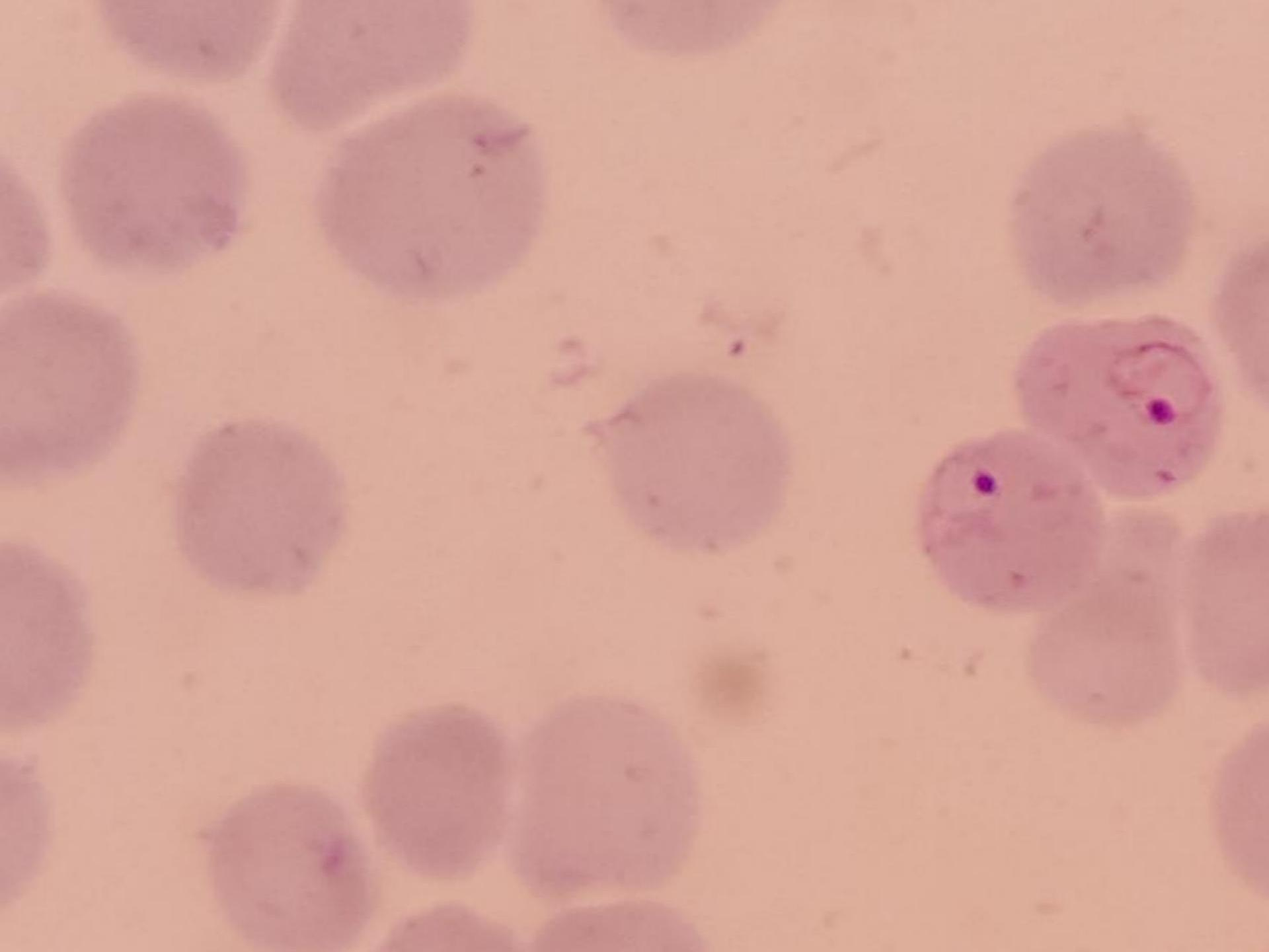Infected: (1013, 312, 1229, 502), (915, 436, 1109, 613)
Uninfected: (314, 88, 547, 299), (511, 694, 703, 897), (1023, 502, 1185, 720), (1008, 123, 1200, 300), (56, 91, 238, 272), (610, 375, 787, 551), (173, 420, 347, 596), (207, 788, 376, 952), (0, 288, 137, 481), (268, 0, 475, 124), (365, 706, 507, 881)
